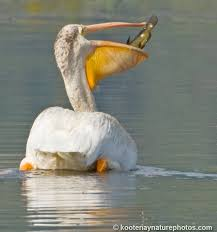pelican: (20, 15, 158, 171)
